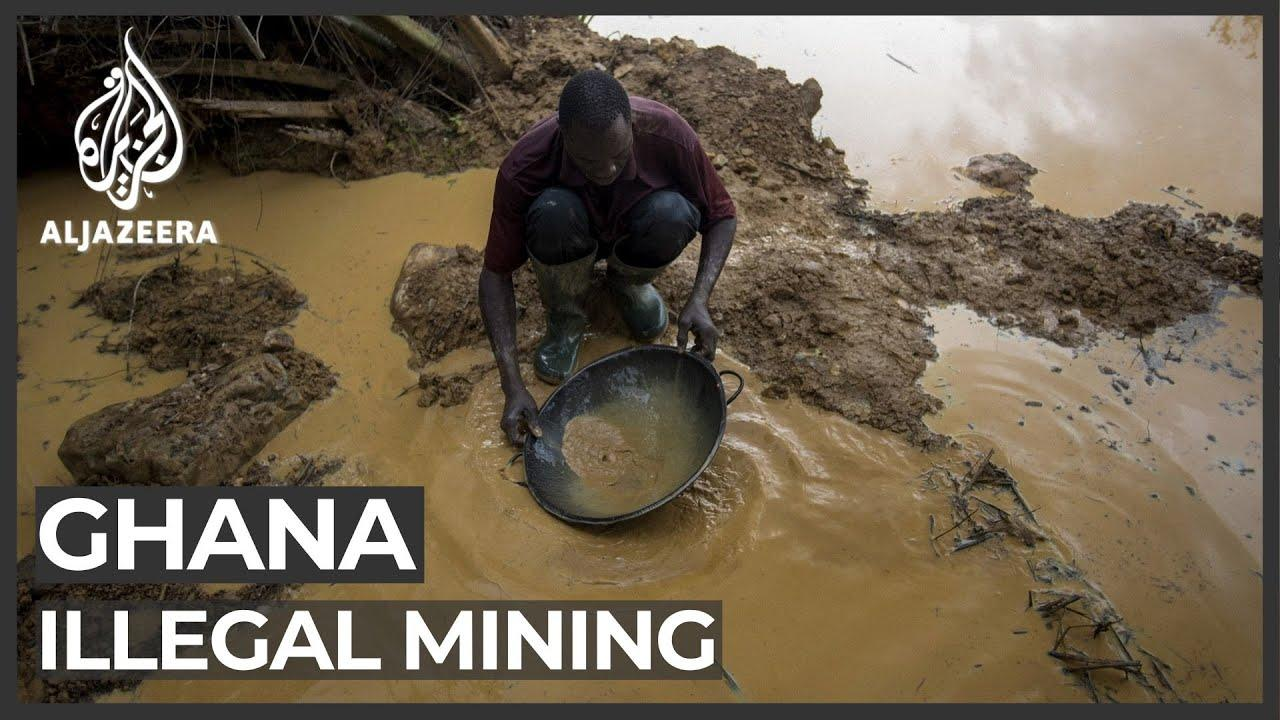MiningTool: (501, 346, 748, 529)
Person: (474, 68, 737, 442)
